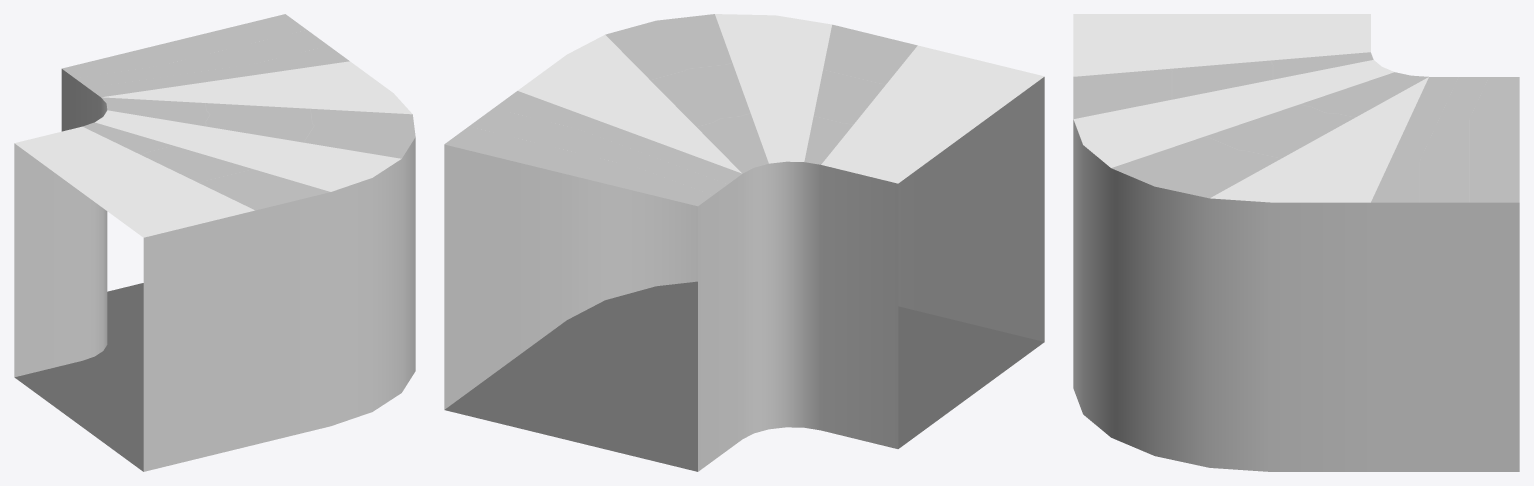
Rendered from donenParca 1.fbx.
3 views of the same model, side by side, from view 1: azimuth 30°, elevation 25°; view 2: azimuth 150°, elevation 25°; view 3: azimuth 270°, elevation 25° (orthographic). The views are drawn at different scales.
Parts seen in each view (by area): view 1: donenParca; view 2: donenParca; view 3: donenParca.
Boxes of the visible parts, x1,y1,x2,y2 form: donenParca: [14, 14, 415, 471]; donenParca: [444, 14, 1044, 471]; donenParca: [1073, 14, 1519, 471].
Size of the model in its own units: 300 by 200 by 300.
